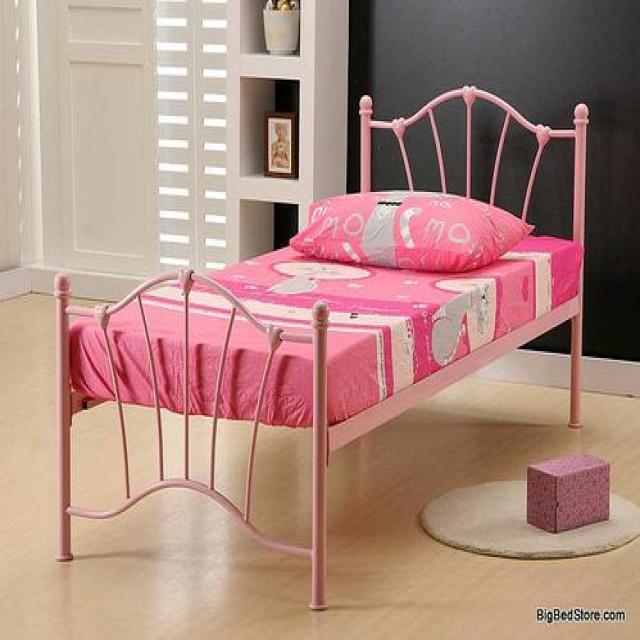bed: (51, 83, 589, 611)
